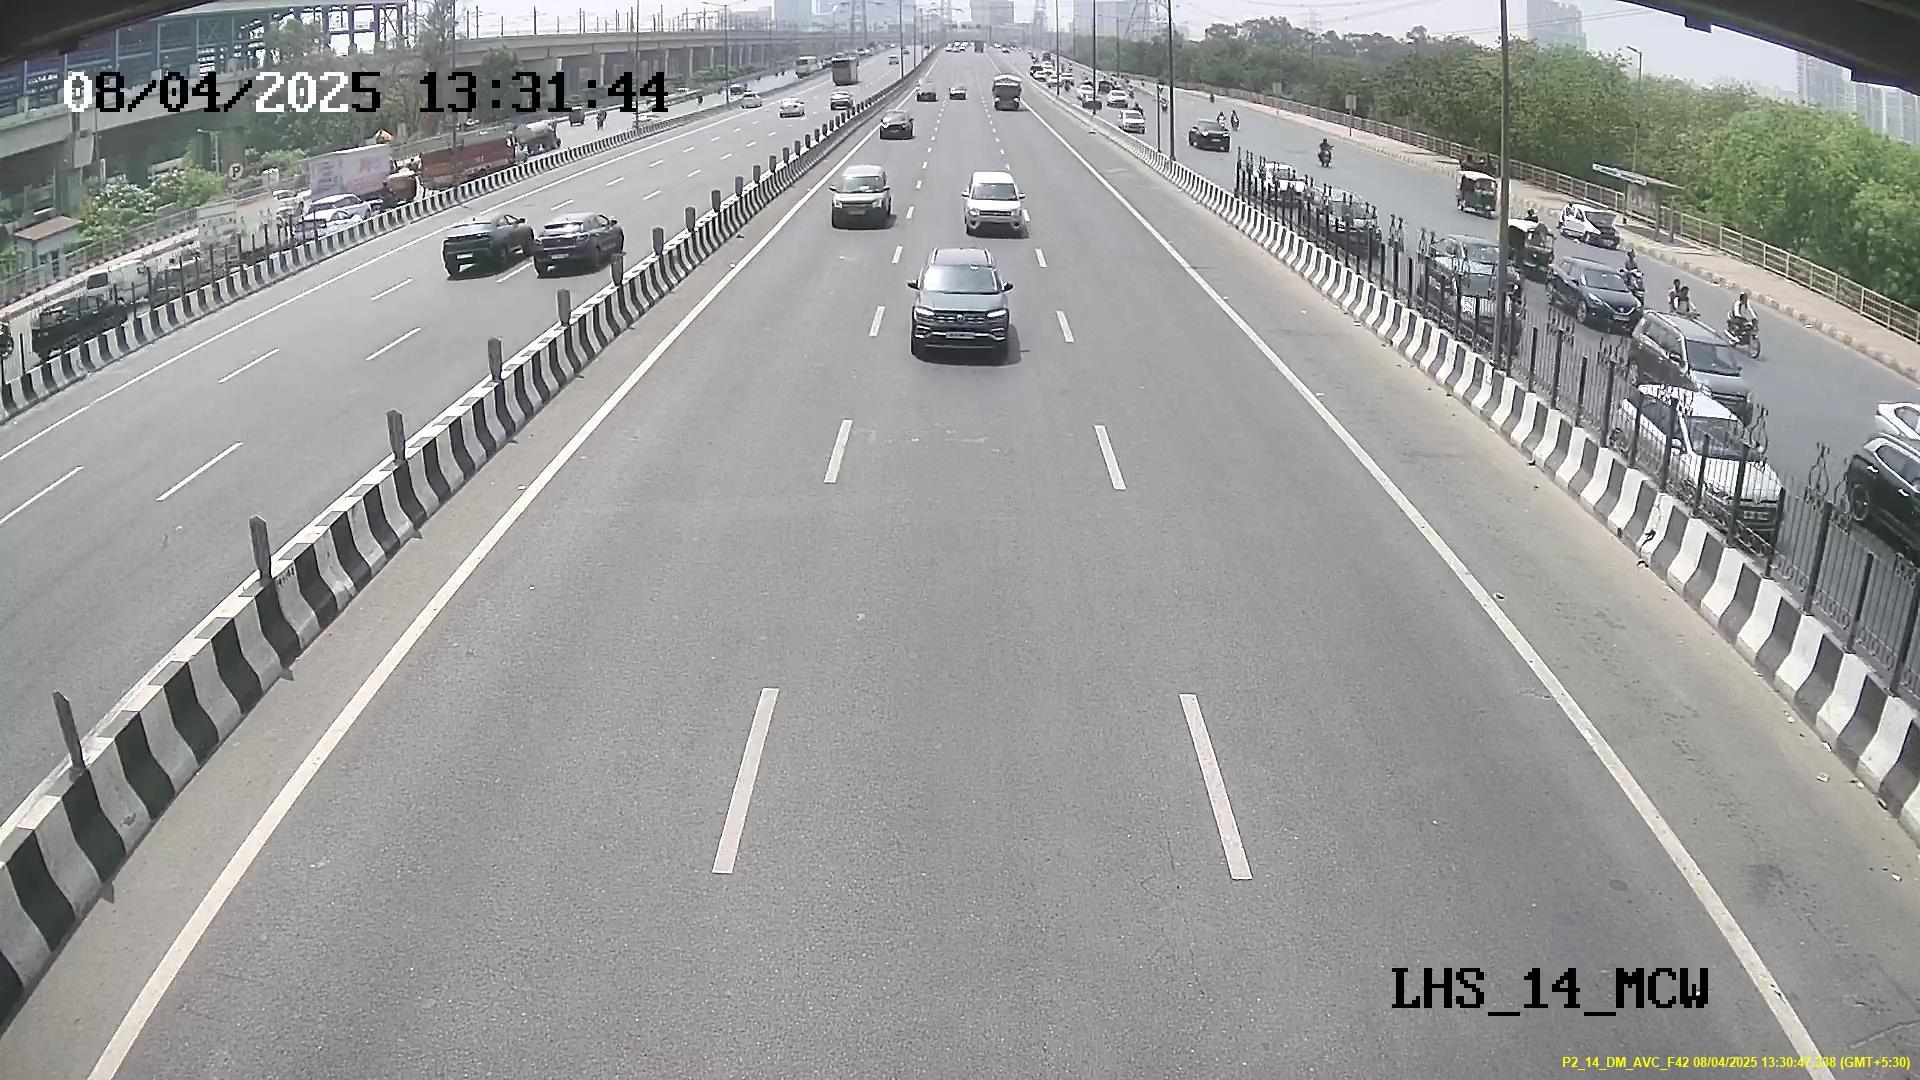car: (909, 252, 1015, 365), (960, 171, 1033, 243), (824, 164, 895, 229)
